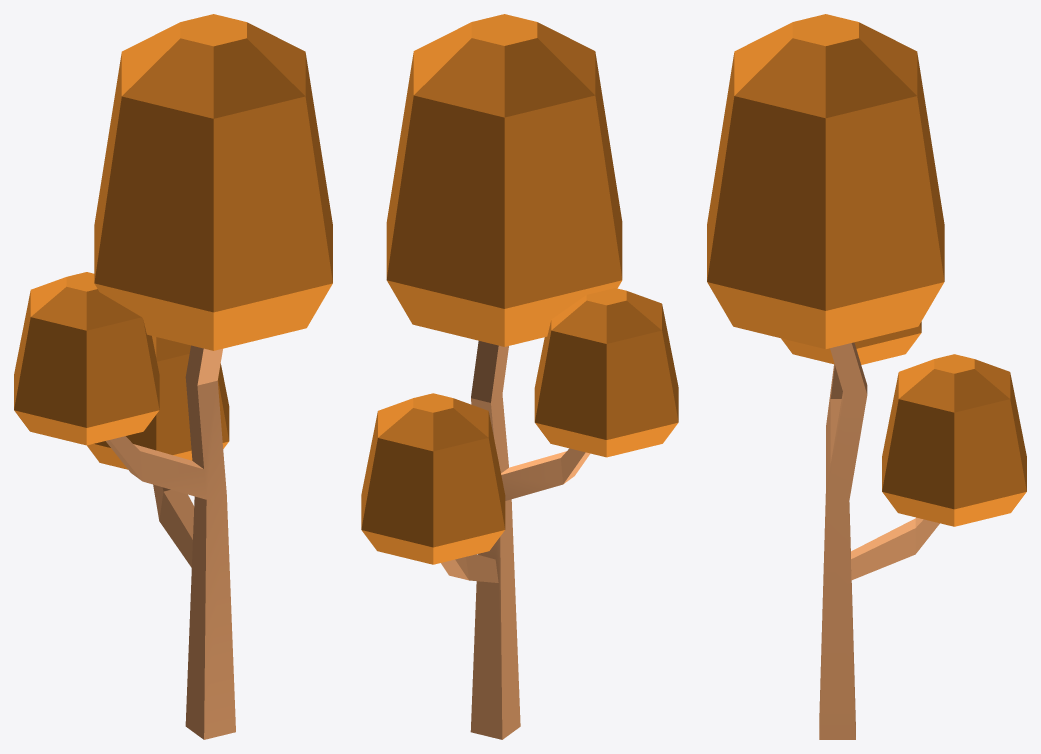
Rendered from tree_thin_fall.obj.
3 views of the same model, side by side, from view 1: azimuth 30°, elevation 25°; view 2: azimuth 150°, elevation 25°; view 3: azimuth 270°, elevation 25° (orthographic).
Visible parts, largest first — view 1: tree_thin_fall; view 2: tree_thin_fall; view 3: tree_thin_fall.
Boxes of the visible parts, x1,y1,x2,y2 form: tree_thin_fall: (14, 14, 332, 739); tree_thin_fall: (361, 14, 678, 739); tree_thin_fall: (707, 14, 1026, 739).
Bounding box in the file's own units: 6.8 × 14.9 × 6.17.
